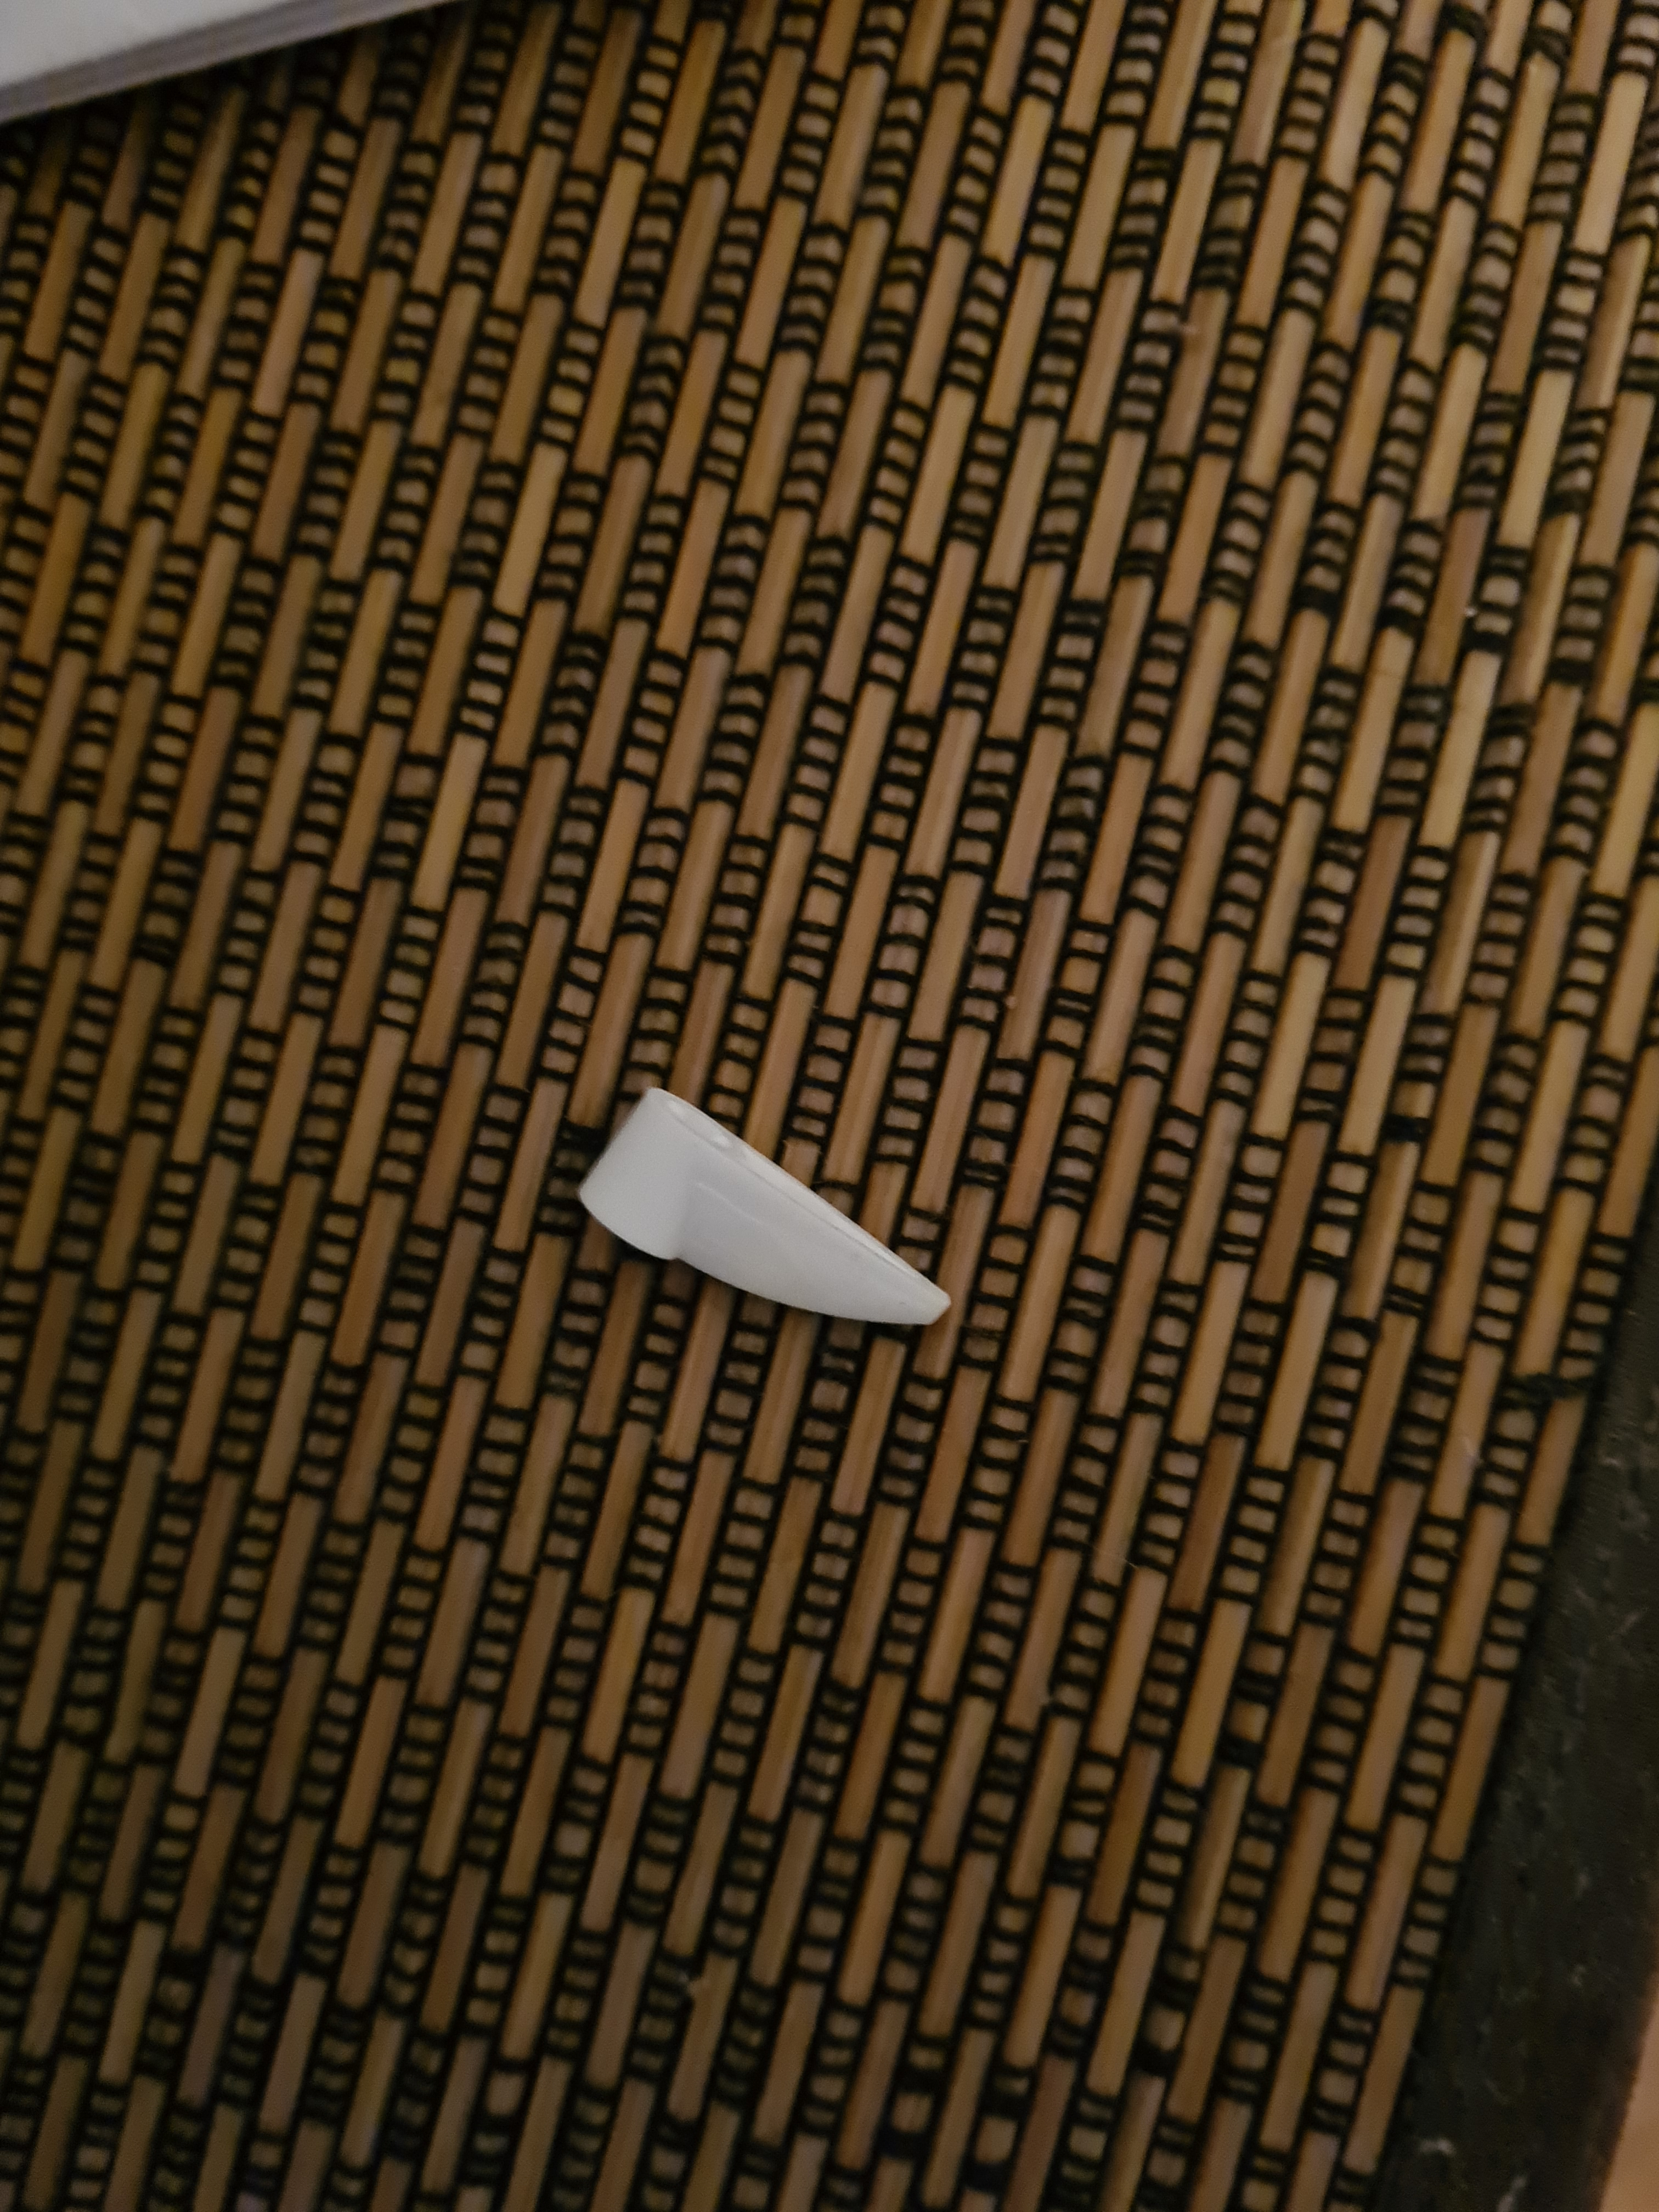Kappe: (566, 1064, 983, 1364)
